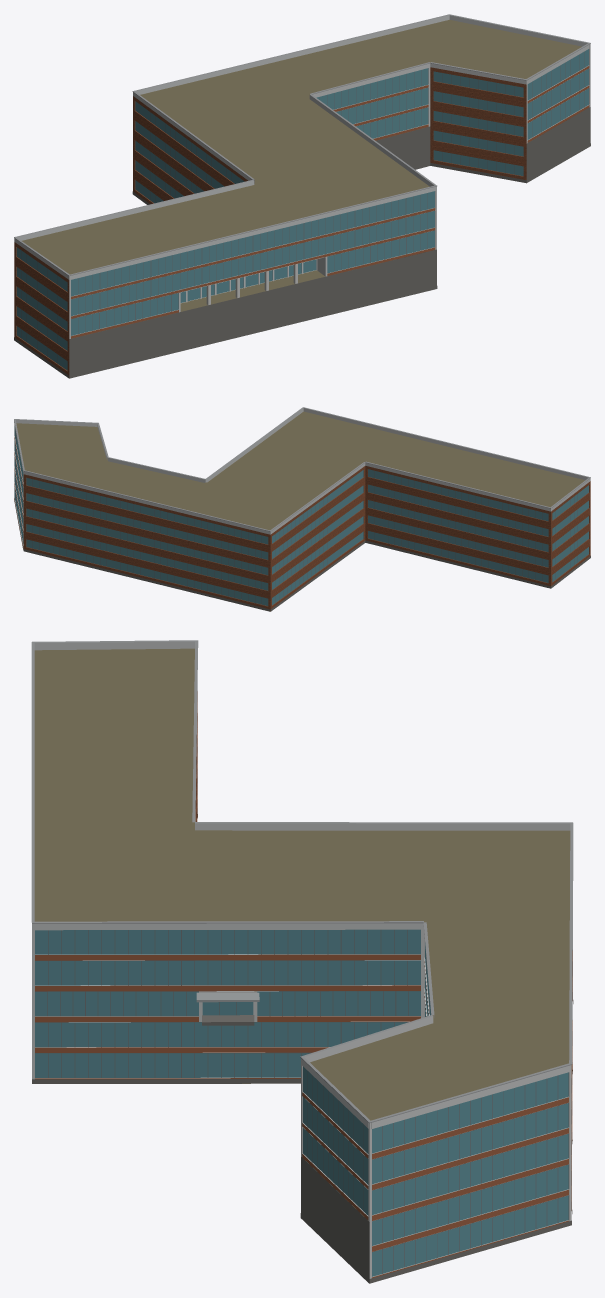
The picture shows the model from 3 angles, top to bottom: view 1: azimuth 30°, elevation 25°; view 2: azimuth 150°, elevation 25°; view 3: azimuth 270°, elevation 25°; orthographic projection. The views are drawn at different scales.
Visible parts, largest first — view 1: business__roof, business__glass, business__base, business__wall2, business__parapet, business__frame, business__spandrel, business__trim, business__wall; view 2: business__roof, business__wall2, business__glass, business__parapet, business__frame, business__trim, business__base, business__wall; view 3: business__roof, business__glass, business__spandrel, business__parapet, business__frame, business__base, business__wall, business__trim.
Part boxes in pixels (x1=…): business__roof: x1=22, y1=19, x2=581, y2=311; business__glass: x1=16, y1=49, x2=588, y2=370; business__base: x1=14, y1=107, x2=590, y2=378; business__wall2: x1=14, y1=67, x2=526, y2=377; business__parapet: x1=14, y1=15, x2=590, y2=279; business__frame: x1=21, y1=51, x2=588, y2=363; business__spandrel: x1=71, y1=66, x2=589, y2=338; business__trim: x1=14, y1=14, x2=590, y2=275; business__wall: x1=69, y1=48, x2=590, y2=338; business__roof: x1=16, y1=411, x2=584, y2=530; business__wall2: x1=23, y1=465, x2=590, y2=611; business__glass: x1=14, y1=426, x2=588, y2=605; business__parapet: x1=14, y1=408, x2=590, y2=534; business__frame: x1=15, y1=428, x2=577, y2=604; business__trim: x1=14, y1=407, x2=590, y2=531; business__base: x1=14, y1=498, x2=590, y2=611; business__wall: x1=14, y1=424, x2=23, y2=550; business__roof: x1=34, y1=648, x2=570, y2=1220; business__glass: x1=35, y1=929, x2=568, y2=1276; business__spandrel: x1=35, y1=954, x2=568, y2=1278; business__parapet: x1=32, y1=641, x2=571, y2=1129; business__frame: x1=35, y1=929, x2=568, y2=1273; business__base: x1=32, y1=814, x2=573, y2=1283; business__wall: x1=32, y1=929, x2=571, y2=1278; business__trim: x1=31, y1=640, x2=573, y2=1122.
Bounding box in the file's own units: 131 × 20.42 × 62.14.
Materials: 12 (1 with a texture image).
